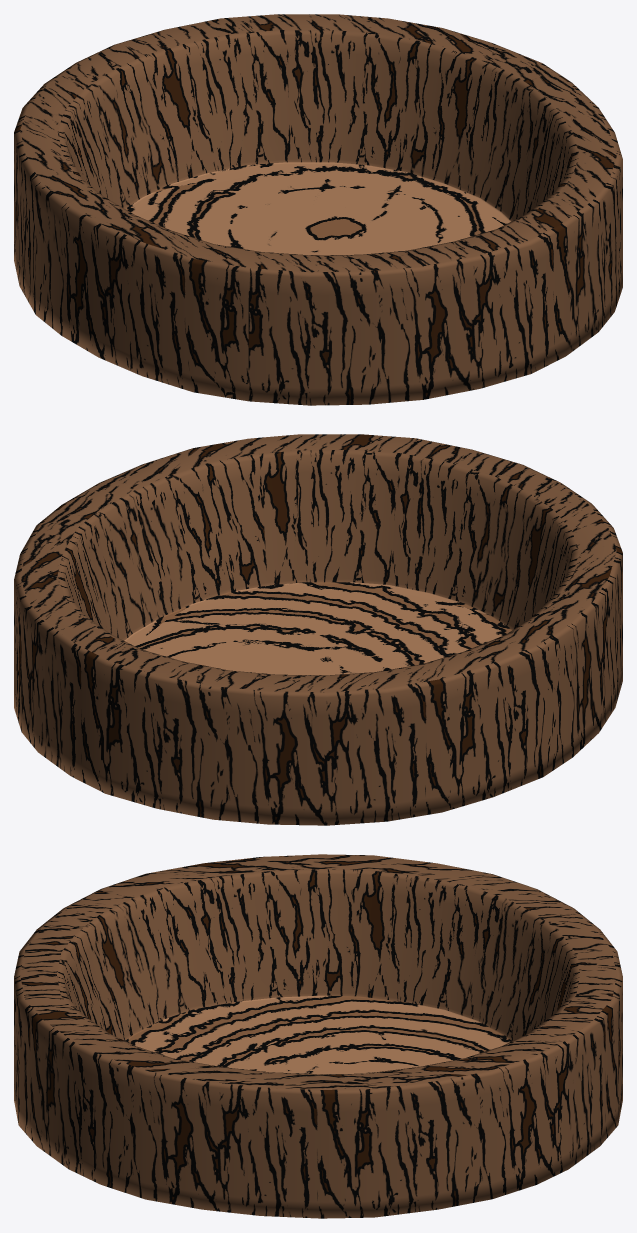
The model's file is Tree room ver 01.fbx.
3 renders of one model, top to bottom at view 1: azimuth 30°, elevation 25°; view 2: azimuth 150°, elevation 25°; view 3: azimuth 270°, elevation 25°, orthographic. The views are drawn at different scales.
Parts seen in each view (by area): view 1: pCube4; view 2: pCube4; view 3: pCube4.
Part boxes in pixels (x1,y1,x2,y2): pCube4: (14, 14, 622, 405); pCube4: (14, 434, 622, 825); pCube4: (14, 854, 622, 1218).
Size of the model in its own units: 46.65 by 11.71 by 49.91.
